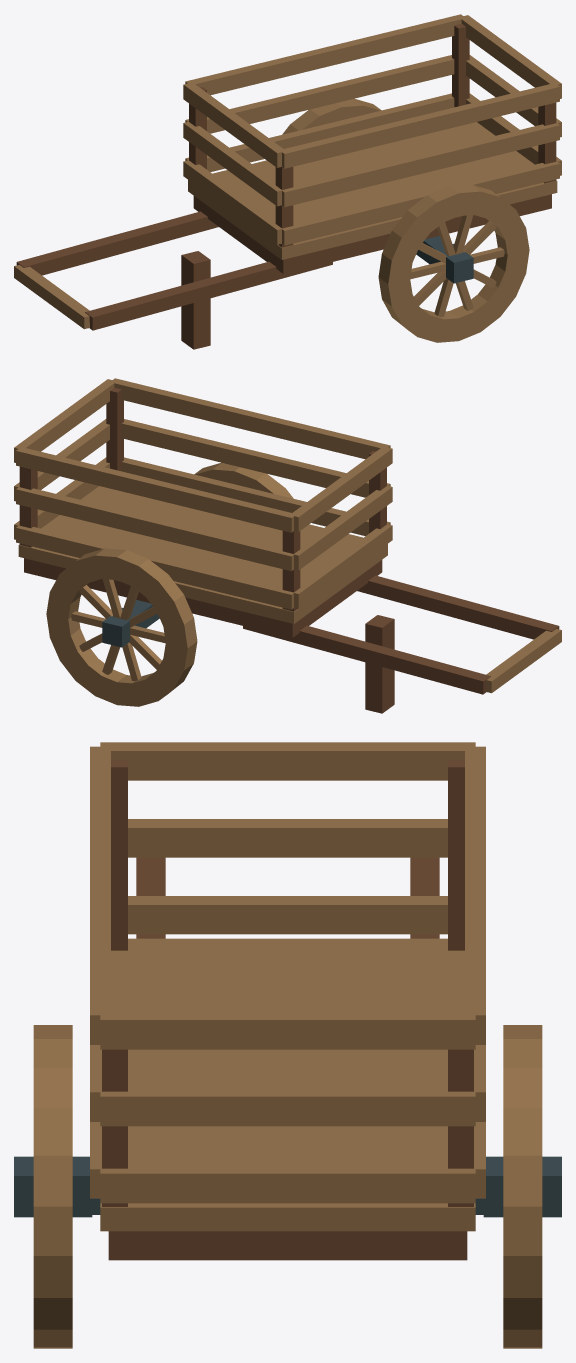
Rendered from Prop_Daily_FarmCart_001.glb.
3 views of the same model, one above another, from view 1: azimuth 30°, elevation 25°; view 2: azimuth 150°, elevation 25°; view 3: azimuth 270°, elevation 25° (orthographic). The views are drawn at different scales.
Visible parts, largest first — view 1: Prop_Daily_FarmCart_001; view 2: Prop_Daily_FarmCart_001; view 3: Prop_Daily_FarmCart_001.
Boxes of the visible parts, x1=… form: Prop_Daily_FarmCart_001: x1=14, y1=14, x2=561, y2=349; Prop_Daily_FarmCart_001: x1=14, y1=378, x2=561, y2=713; Prop_Daily_FarmCart_001: x1=14, y1=742, x2=561, y2=1348.
Size of the model in its own units: 3.3 by 1.46 by 1.68.
